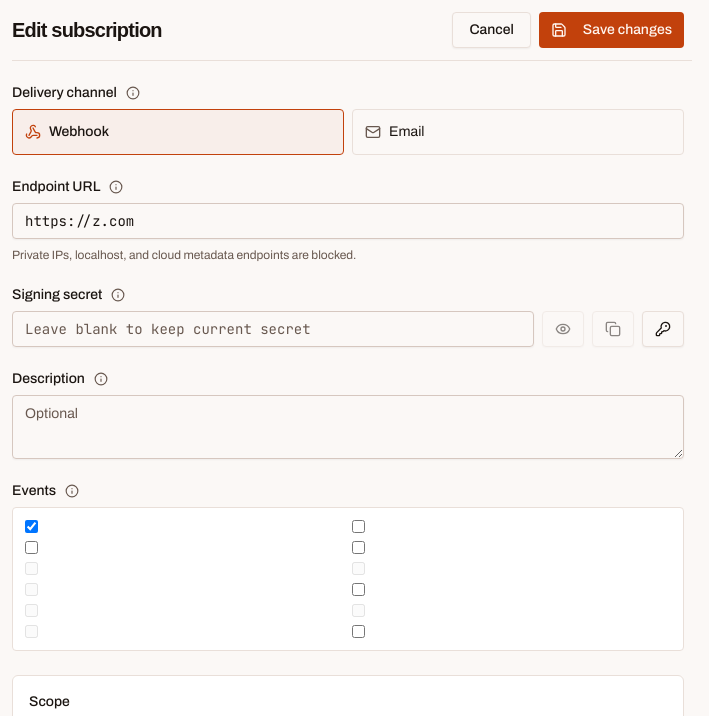
Test case: WebhookForm › edit mode: surfaces APIClientError message in error banner when PATCH fails
# Act — submit (no new secret, so it goes through immediately)
Click the button "Save changes". click: (611, 30)
box: [539,12,684,48]
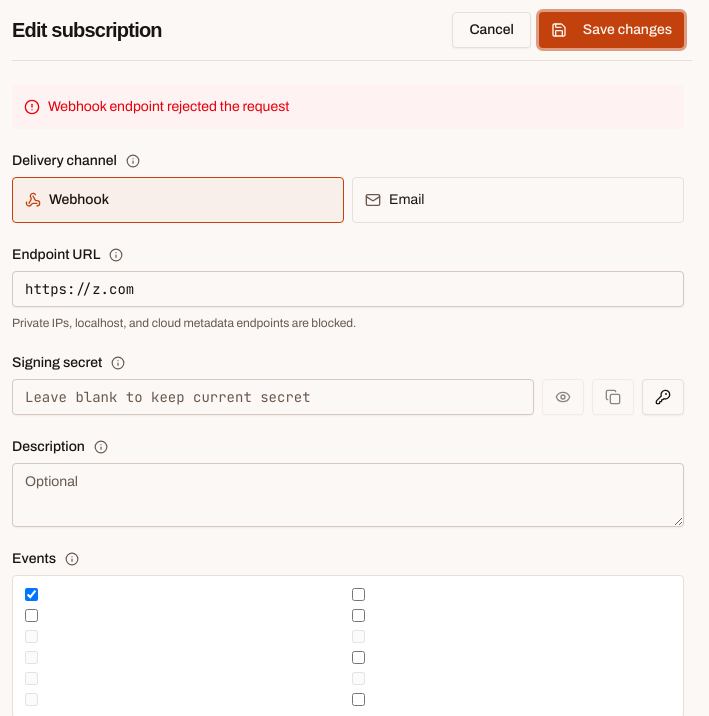
Check: the text "Webhook endpoint rejected the request" is shown, box [12,85,684,129]
